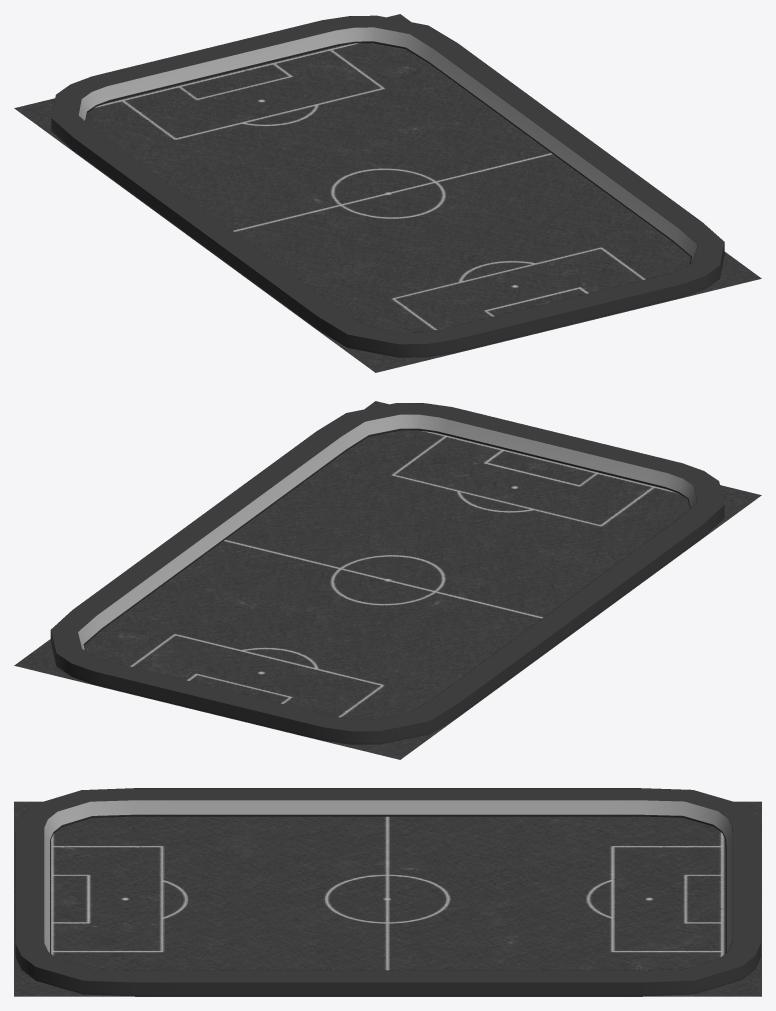
Rendered from saha02.fbx.
3 views of the same model, one above another, from view 1: azimuth 30°, elevation 25°; view 2: azimuth 150°, elevation 25°; view 3: azimuth 270°, elevation 25° (orthographic). The views are drawn at different scales.
Parts seen in each view (by area): view 1: pPlane10, kenr_srf15; view 2: pPlane10, kenr_srf15; view 3: pPlane10, kenr_srf15.
Part boxes in pixels (box(x1,y1,x2,y2)): pPlane10: box(14, 14, 761, 372); kenr_srf15: box(51, 15, 724, 357); pPlane10: box(14, 401, 761, 759); kenr_srf15: box(50, 403, 724, 744); pPlane10: box(14, 801, 761, 996); kenr_srf15: box(15, 788, 760, 996).
Bounding box in the file's own units: 35491 × 1220 × 57544.
